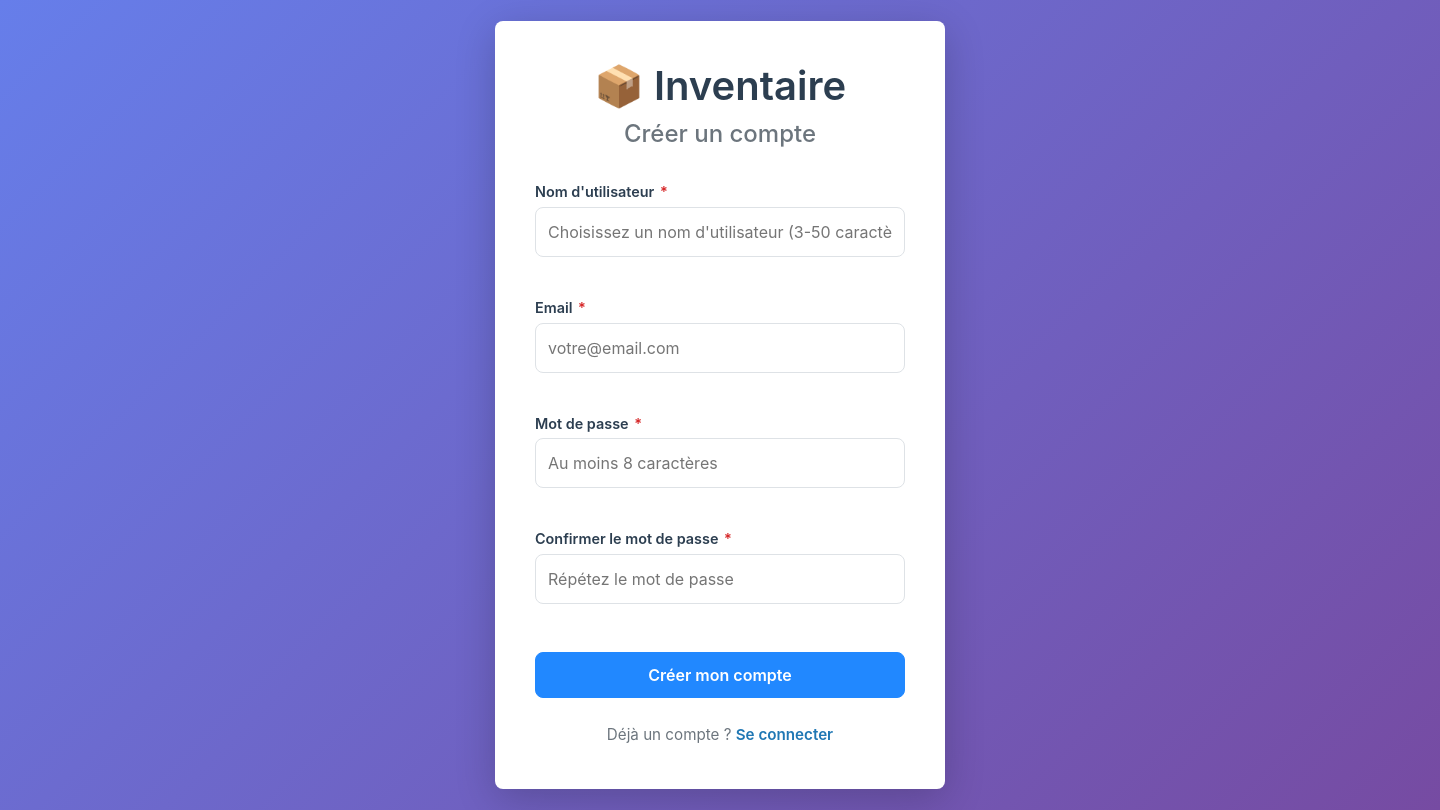
Test: Register › désactive les champs pendant la soumission
Type "testuser" into the field labelled "Nom d'utilisateur *" at {"x": 720, "y": 232}, box left=535, top=207, right=905, bottom=257
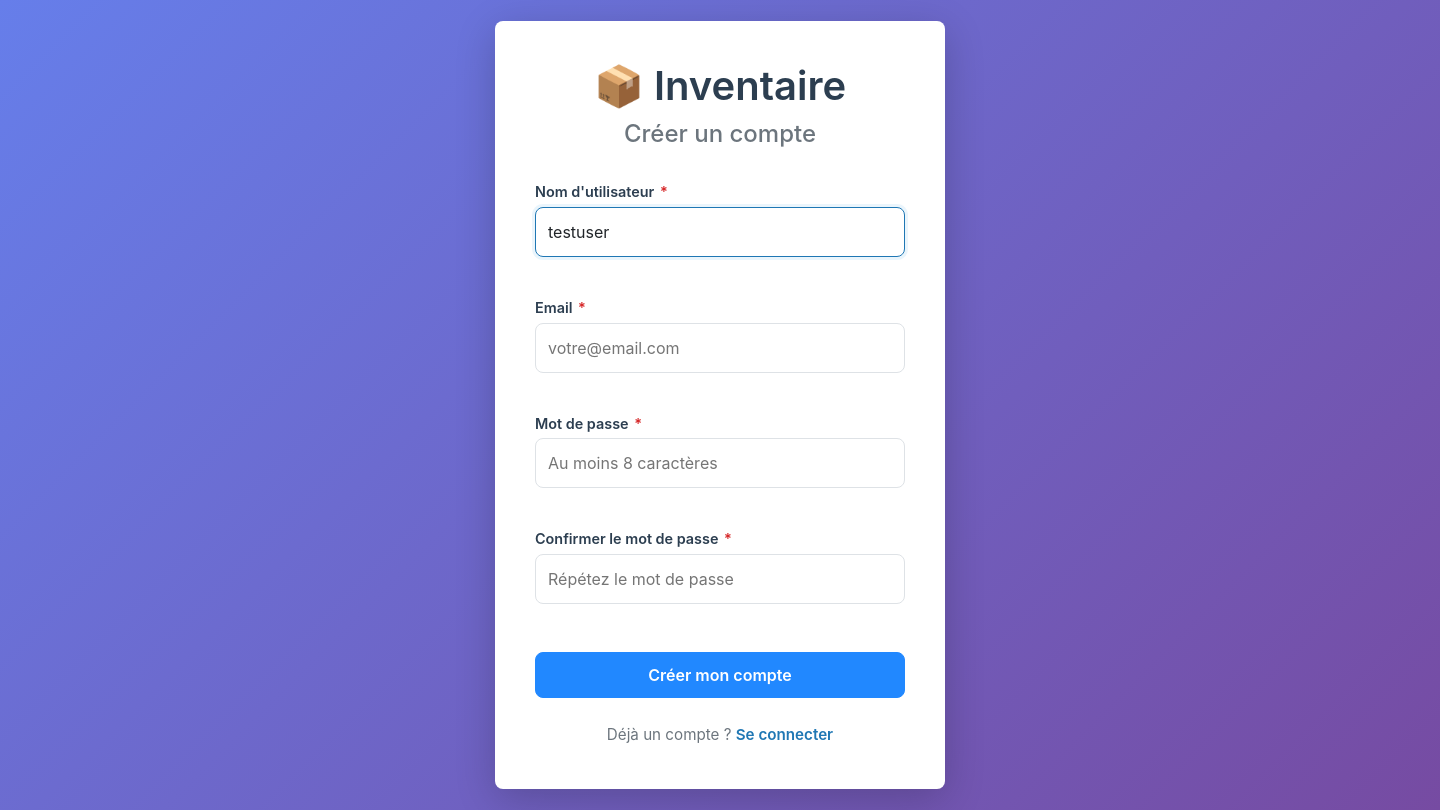
Type "test@example.com" into the field labelled "Email *" at {"x": 720, "y": 348}, box left=535, top=323, right=905, bottom=373
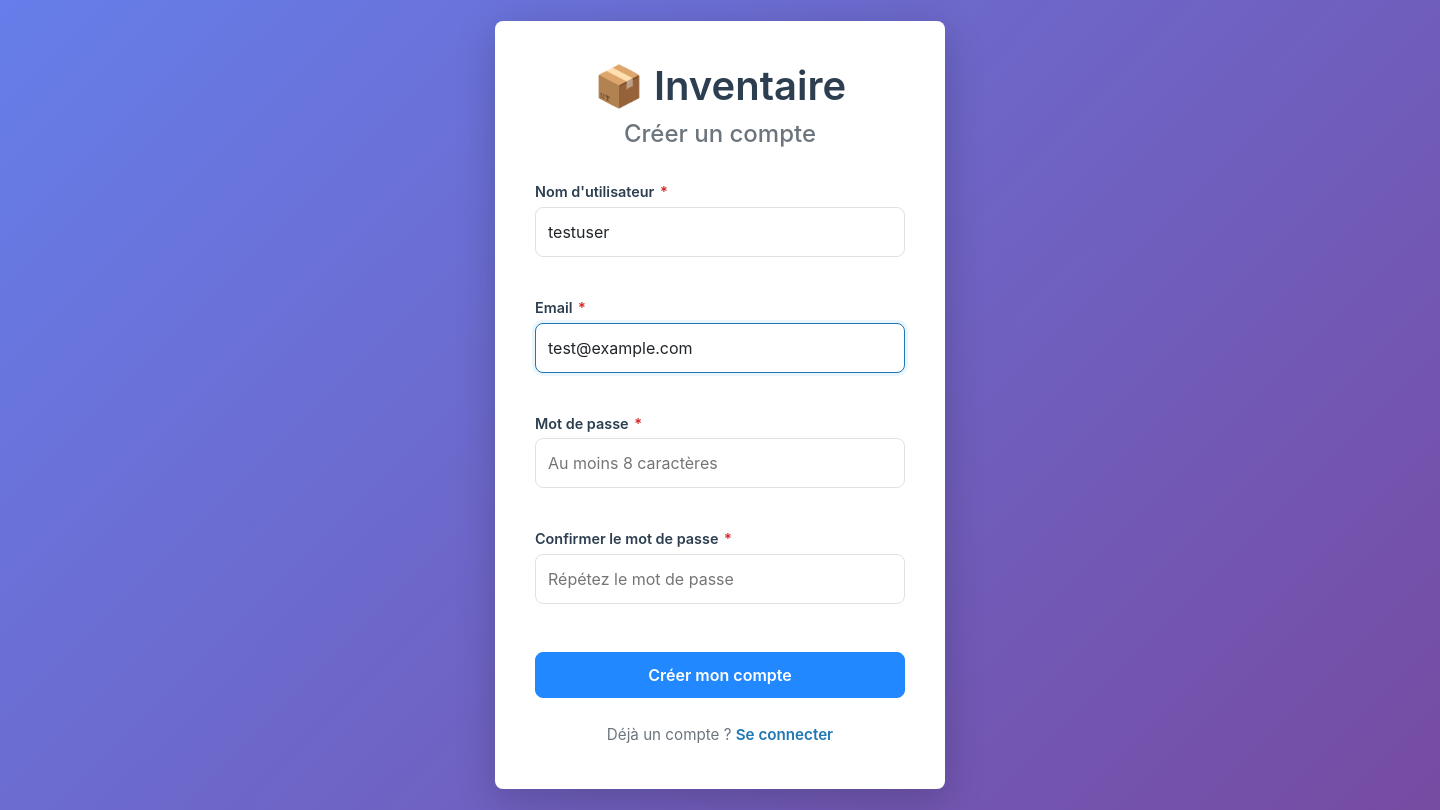
Type "password123" into the password field labelled "Mot de passe *" at {"x": 720, "y": 463}, box left=535, top=438, right=905, bottom=488
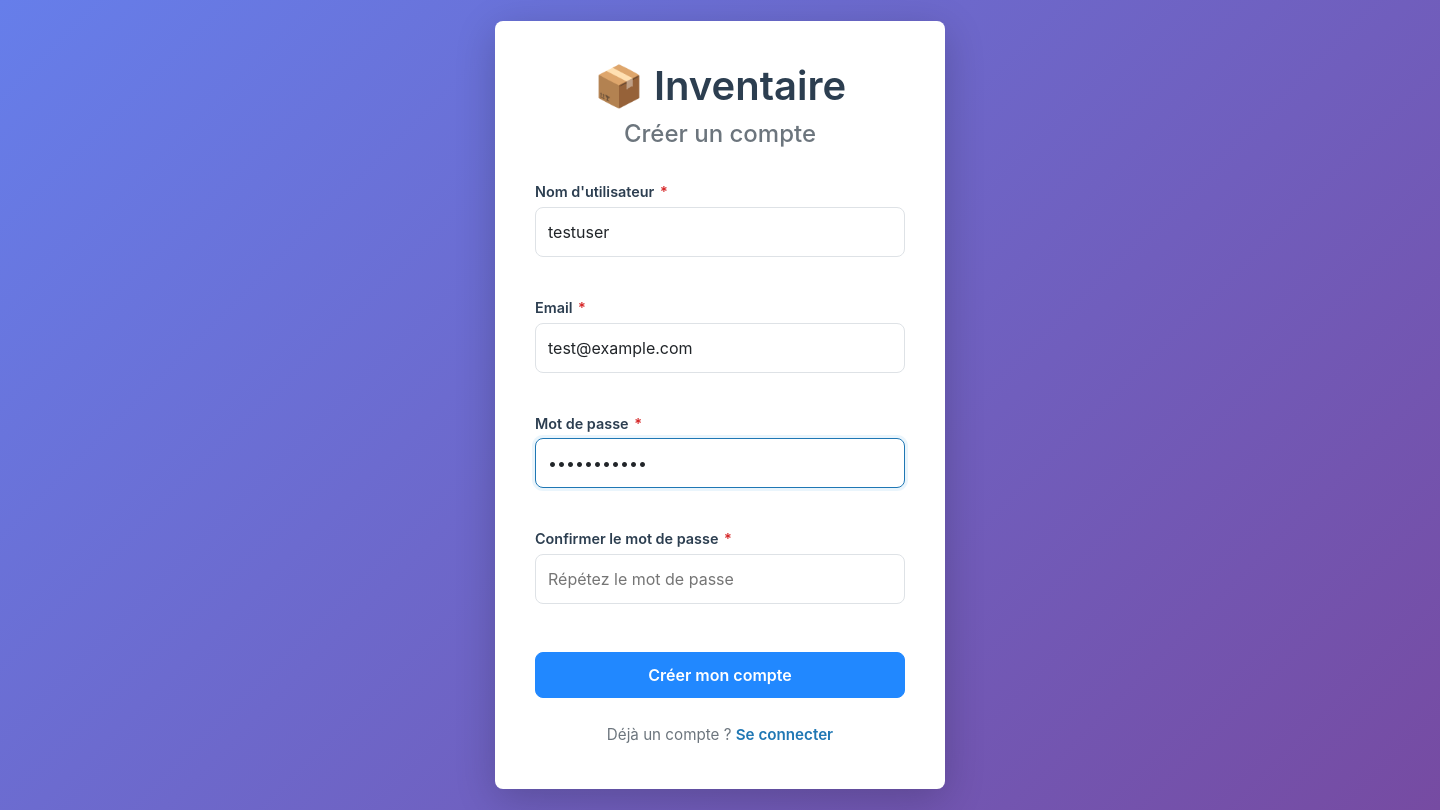
Type "password123" into the password field labelled "Confirmer le mot de passe *" at {"x": 720, "y": 579}, box left=535, top=554, right=905, bottom=604
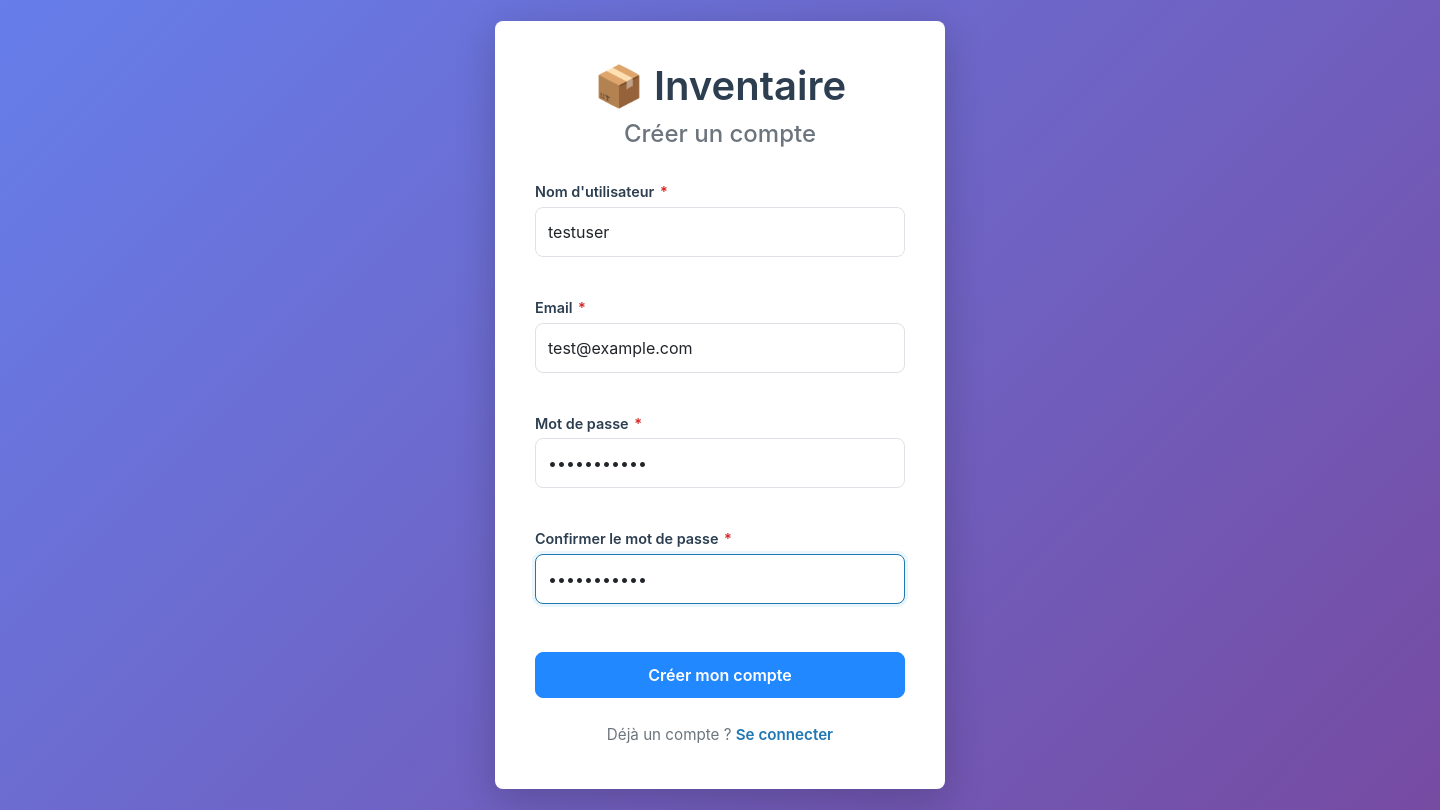
Click the button "Créer mon compte" at {"x": 720, "y": 675}, box left=535, top=652, right=905, bottom=698
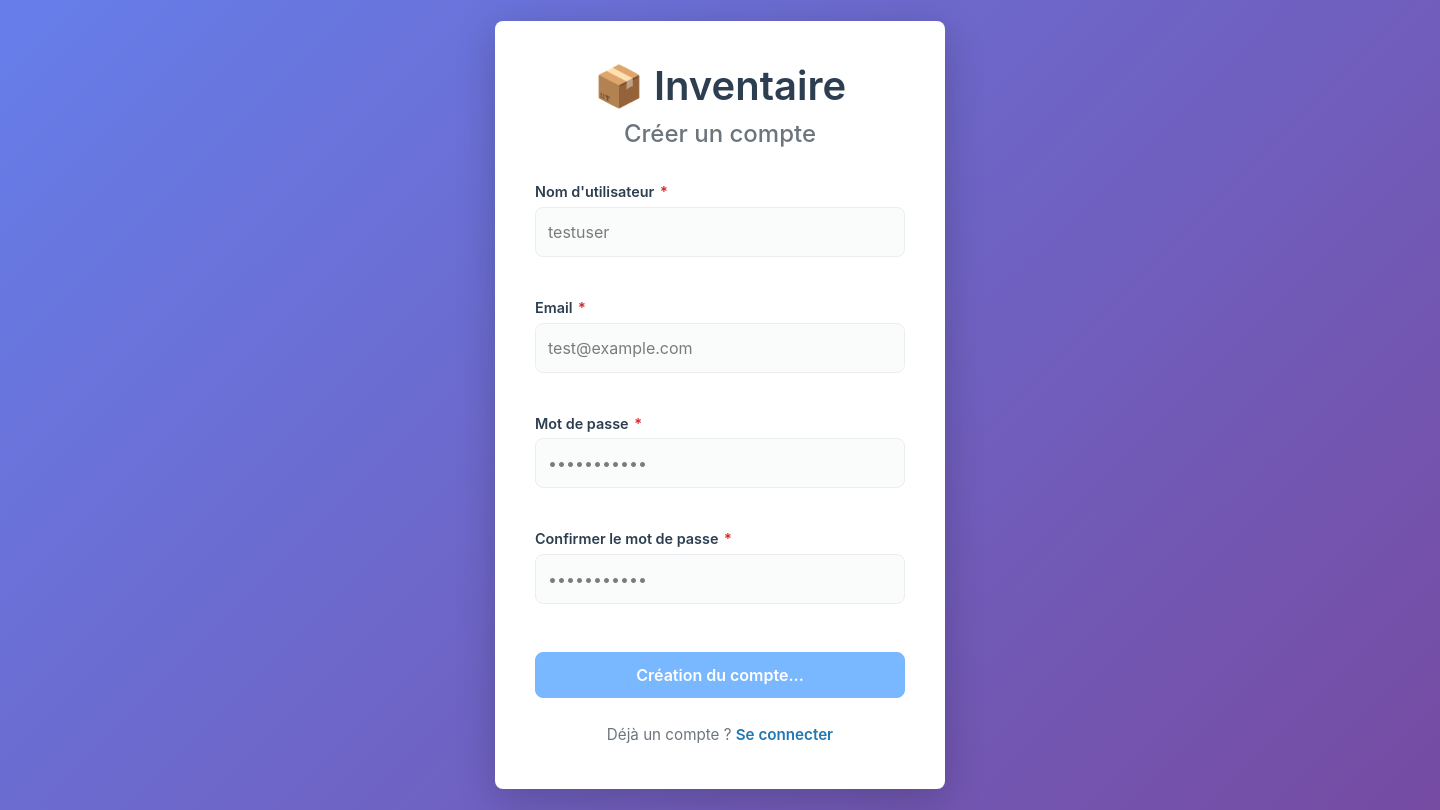
Now the field labelled "Nom d'utilisateur *" is disabled, box left=535, top=207, right=905, bottom=257
Now the field labelled "Email *" is disabled, box left=535, top=323, right=905, bottom=373
Now the password field labelled "Mot de passe *" is disabled, box left=535, top=438, right=905, bottom=488
